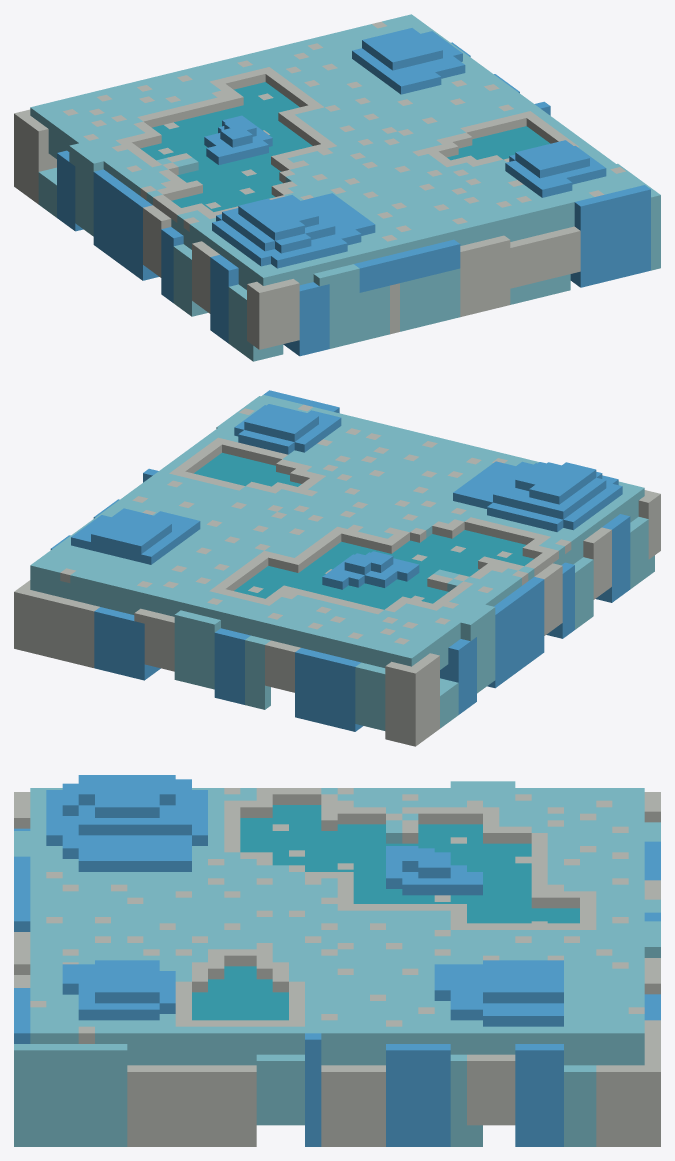
The model's file is biomanieveglb.glb.
3 renders of one model, top to bottom at view 1: azimuth 30°, elevation 25°; view 2: azimuth 150°, elevation 25°; view 3: azimuth 270°, elevation 25°, orthographic. The views are drawn at different scales.
Parts seen in each view (by area): view 1: defaultobject; view 2: defaultobject; view 3: defaultobject.
Part boxes in pixels (x1=…): defaultobject: x1=14, y1=14, x2=660, y2=361; defaultobject: x1=14, y1=390, x2=660, y2=746; defaultobject: x1=14, y1=775, x2=660, y2=1146.
Size of the model in its own units: 33.48 by 8.42 by 35.45.
Materials: 1 (1 with a texture image).
